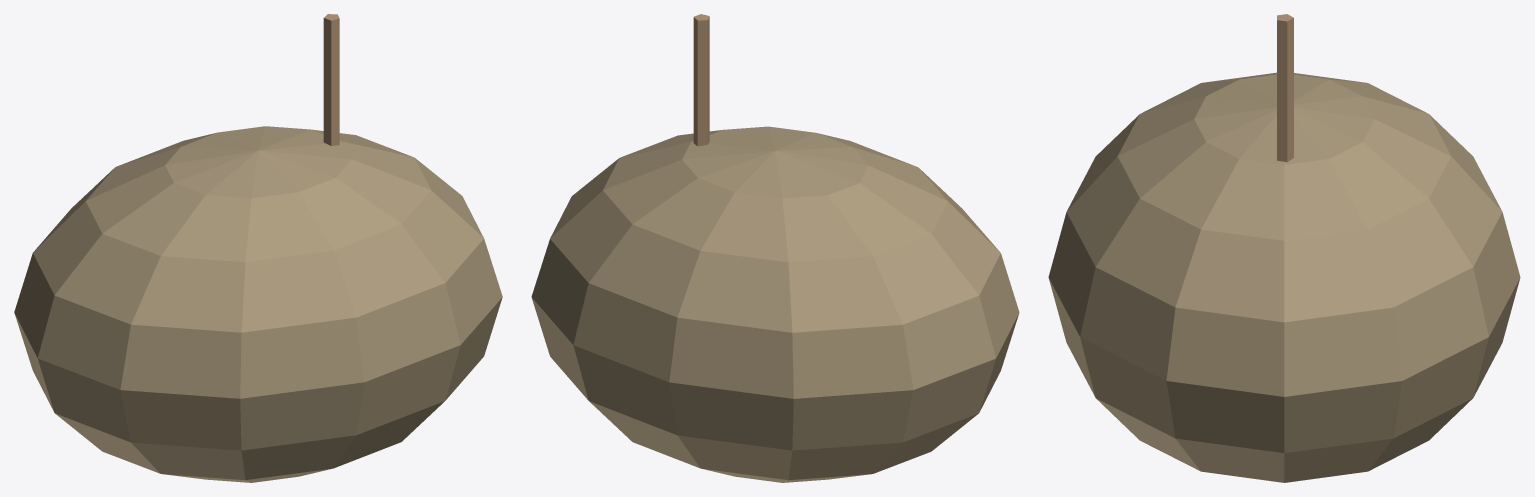
File: dead_shrub.glb
3 renders of one model, left to right at view 1: azimuth 30°, elevation 25°; view 2: azimuth 150°, elevation 25°; view 3: azimuth 270°, elevation 25°, orthographic. The views are drawn at different scales.
Parts seen in each view (by area): view 1: shrub, twig; view 2: shrub, twig; view 3: shrub, twig.
Part boxes in pixels (<box>): shrub: <box>14,126,502,482</box>; twig: <box>323,14,339,145</box>; shrub: <box>531,126,1019,482</box>; twig: <box>693,14,709,146</box>; shrub: <box>1048,72,1520,482</box>; twig: <box>1277,14,1293,162</box>.
Size of the model in its own units: 1.2 by 1.1 by 1.
